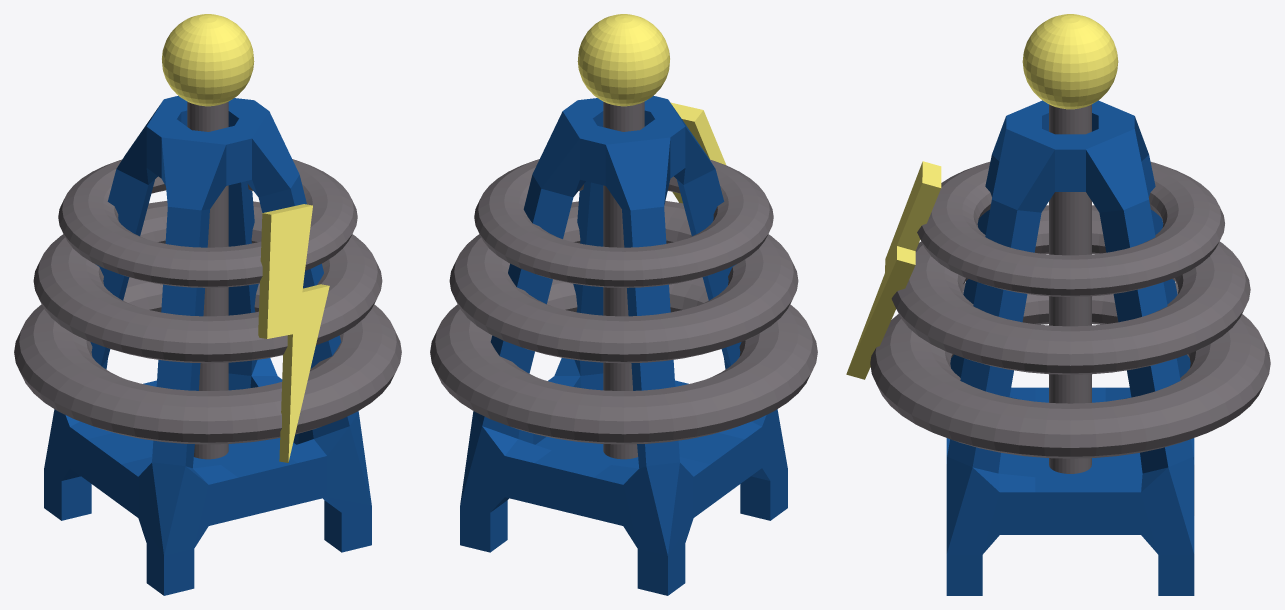
File: Lightning_Tower.fbx
3 views of the same model, side by side, from view 1: azimuth 30°, elevation 25°; view 2: azimuth 150°, elevation 25°; view 3: azimuth 270°, elevation 25° (orthographic). The views are drawn at different scales.
Parts seen in each view (by area): view 1: Lightning Tower; view 2: Lightning Tower; view 3: Lightning Tower.
Part boxes in pixels (<box>): Lightning Tower: <box>14,14,401,595</box>; Lightning Tower: <box>430,14,817,595</box>; Lightning Tower: <box>846,14,1270,595</box>.
Bounding box in the file's own units: 865 × 917 × 1251.
